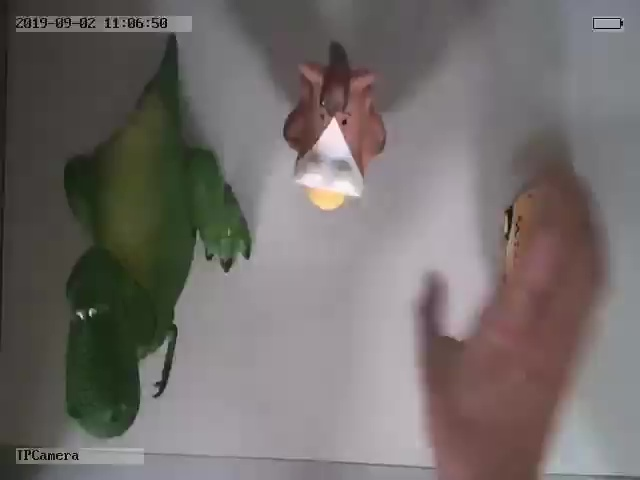horse: (283, 41, 387, 209)
rex: (64, 59, 252, 441)
